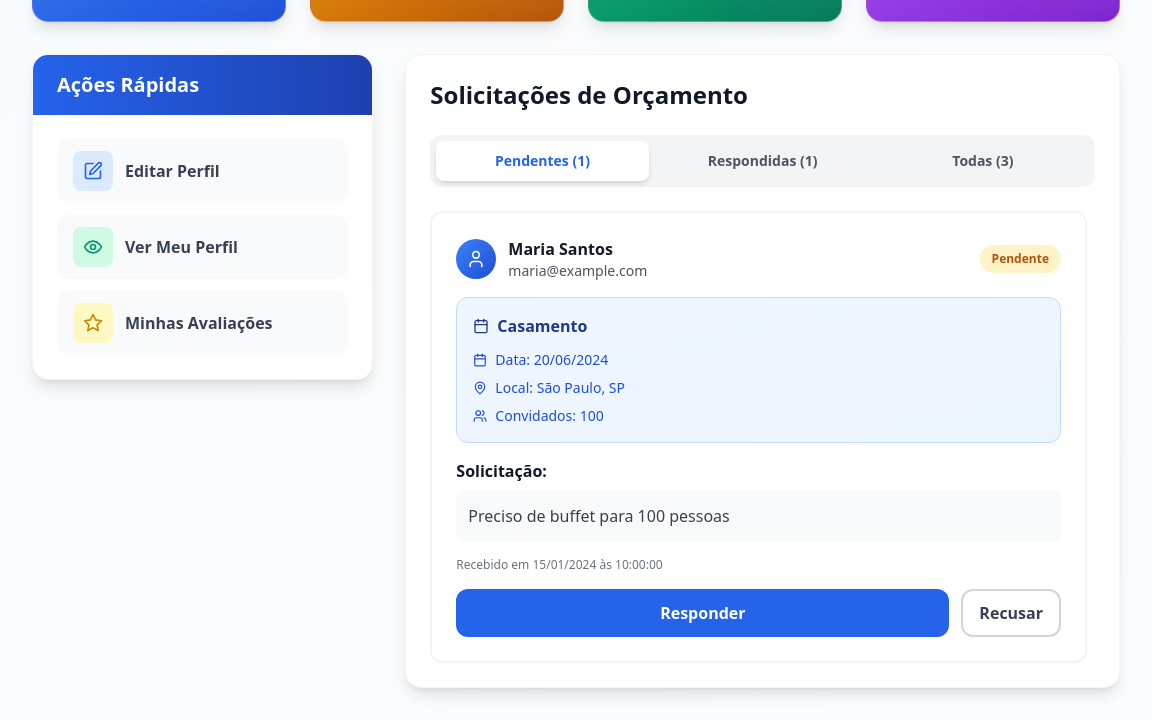
Scenario: SupplierDashboard › Response Modal › should show submitting state when form is being submitted
(page scrolled)
Click the button "Responder": (703, 613) [456,589,949,637]
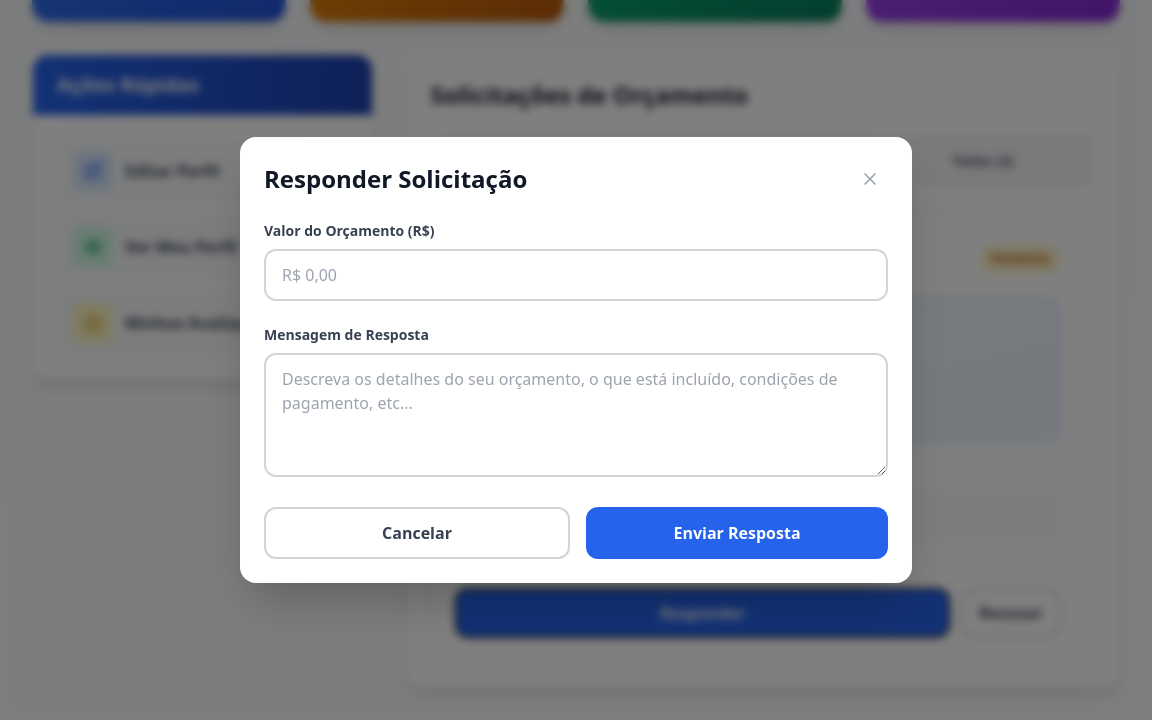
Now the field with placeholder "R$ 0,00" is shown
In the field with placeholder "R$ 0,00": (576, 275) [264,249,888,301], type "5000"
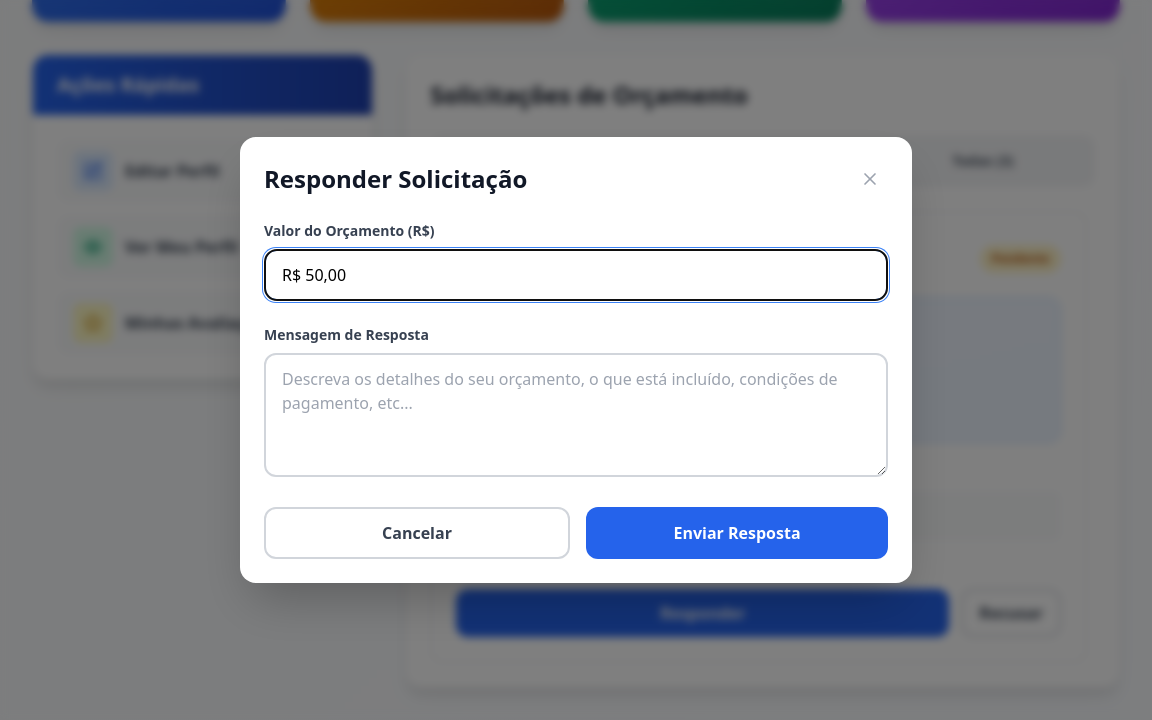
Replace the text in the text box with placeholder "Descreva os detalhes" with "Orçamento": (576, 415) [264,353,888,477]
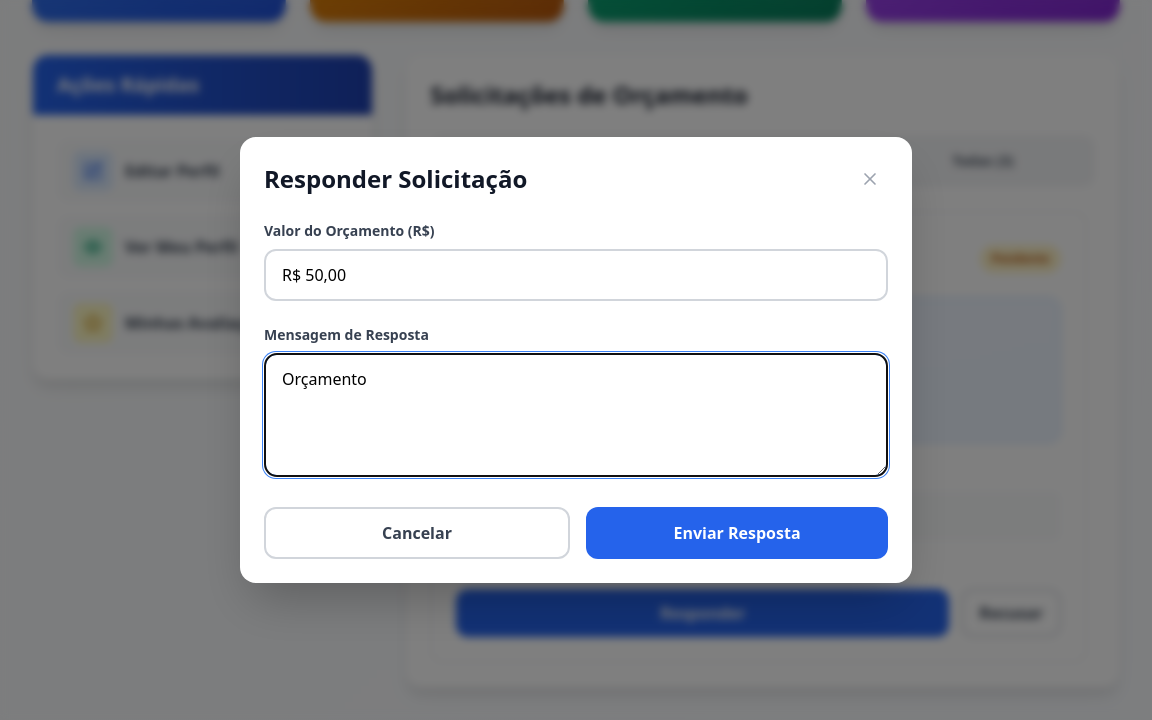
Click the button "Enviar Resposta": (737, 533) [586,507,888,559]
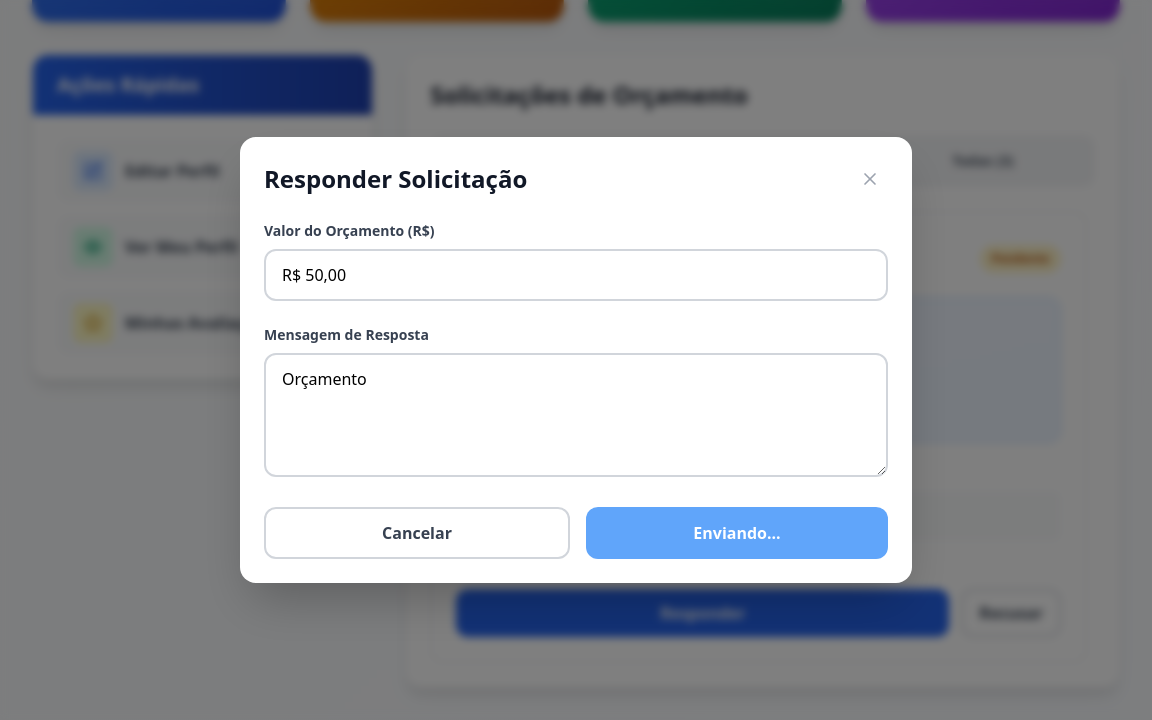
Now the button "Enviando..." is shown, box [586,507,888,559]
